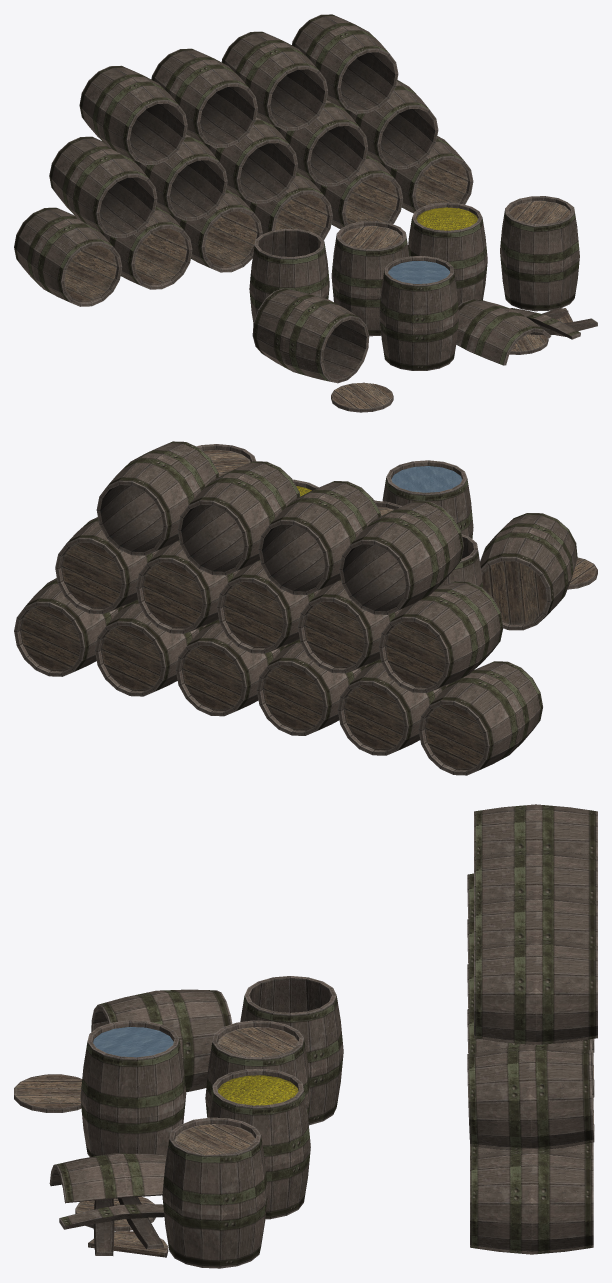
Rendered from barrelsOGA.fbx.
3 views of the same model, one above another, from view 1: azimuth 30°, elevation 25°; view 2: azimuth 150°, elevation 25°; view 3: azimuth 270°, elevation 25° (orthographic). The views are drawn at different scales.
Parts seen in each view (by area): view 1: barrel2.010, Circle.003, barrel2.012, barrel1, barrel2.011, barrel2.001, barrel2, Circle.001, barrel2.003, barrel2.008, barrel2.002, barrel2.007 (+1 smaller); view 2: Circle.003, barrel2.010, barrel2.012, barrel2.001, barrel1, barrel2.003, barrel2.011, barrel2.002; view 3: barrel2.010, barrel2.012, barrel2.011, Circle.003, barrel1, Circle.001, barrel2.003, barrel2.001, barrel2, barrel2.008, barrel2.002, barrel2.007 (+3 smaller).
Boxes of the visible parts, x1=… form: barrel2.010: x1=79, y1=14, x2=398, y2=164; Circle.003: x1=14, y1=136, x2=473, y2=306; barrel2.012: x1=49, y1=80, x2=438, y2=237; barrel1: x1=379, y1=256, x2=459, y2=370; barrel2.011: x1=500, y1=196, x2=579, y2=311; barrel2.001: x1=252, y1=288, x2=369, y2=383; barrel2: x1=331, y1=221, x2=409, y2=336; Circle.001: x1=408, y1=202, x2=487, y2=305; barrel2.003: x1=249, y1=229, x2=329, y2=322; barrel2.008: x1=456, y1=299, x2=551, y2=365; barrel2.002: x1=331, y1=382, x2=393, y2=412; barrel2.007: x1=510, y1=308, x2=580, y2=339; Circle.003: x1=14, y1=578, x2=542, y2=775; barrel2.010: x1=96, y1=441, x2=463, y2=614; barrel2.012: x1=55, y1=517, x2=503, y2=692; barrel2.001: x1=480, y1=513, x2=577, y2=630; barrel1: x1=382, y1=460, x2=473, y2=538; barrel2.003: x1=437, y1=534, x2=482, y2=588; barrel2.011: x1=196, y1=444, x2=255, y2=476; barrel2.002: x1=567, y1=557, x2=597, y2=589; barrel2.010: x1=474, y1=804, x2=597, y2=1044; barrel2.012: x1=467, y1=873, x2=594, y2=1150; barrel2.011: x1=162, y1=1117, x2=267, y2=1268; Circle.003: x1=470, y1=1053, x2=593, y2=1254; barrel1: x1=80, y1=1020, x2=186, y2=1157; Circle.001: x1=207, y1=1069, x2=310, y2=1219; barrel2.003: x1=240, y1=976, x2=343, y2=1125; barrel2.001: x1=91, y1=989, x2=232, y2=1092; barrel2: x1=205, y1=1020, x2=310, y2=1119; barrel2.008: x1=49, y1=1153, x2=166, y2=1203; barrel2.002: x1=14, y1=1074, x2=82, y2=1112; barrel2.007: x1=59, y1=1204, x2=164, y2=1229.
Size of the model in its own units: 1385 by 629 by 1269.
